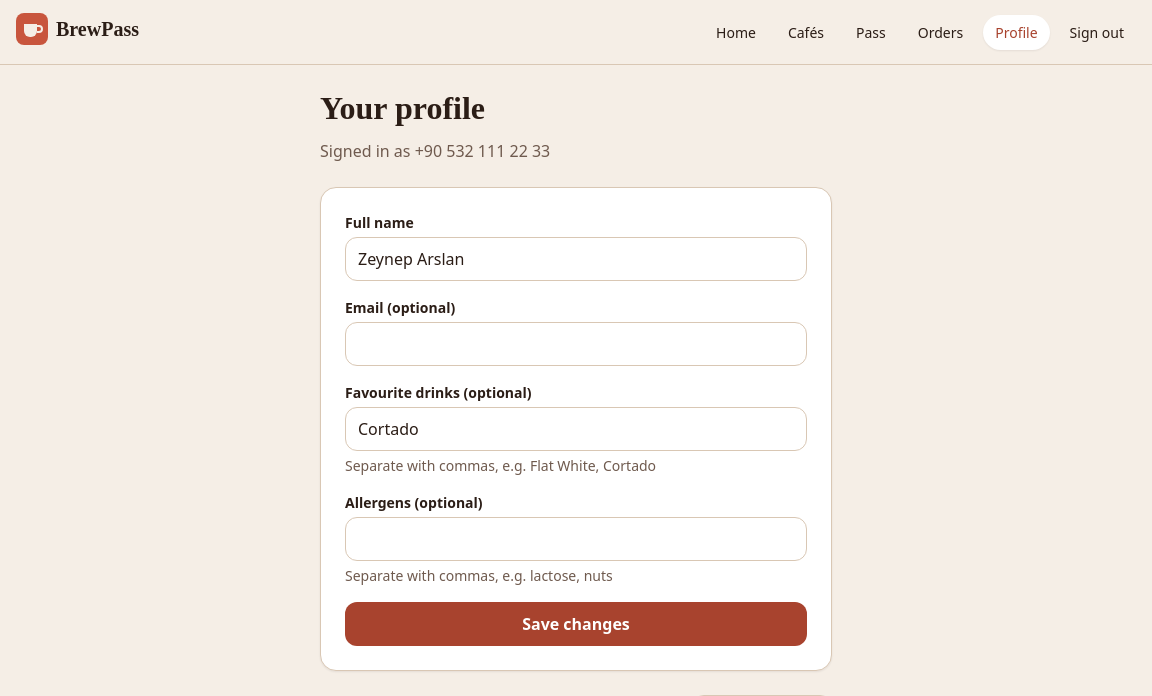
profile page › loads, edits and saves the profile
In the field labelled "Favourite drinks (optional)": (576, 429) [345,407,807,451], type ", Flat White"
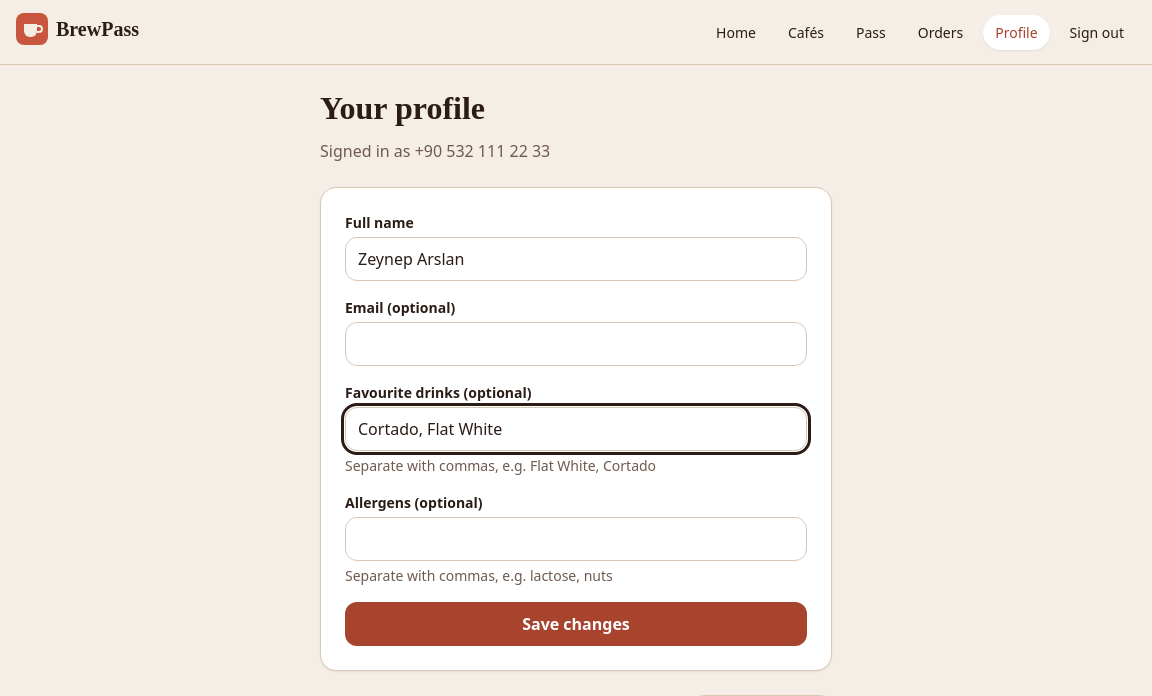
In the field labelled "Allergens (optional)": (576, 539) [345,517,807,561], type "lactose"
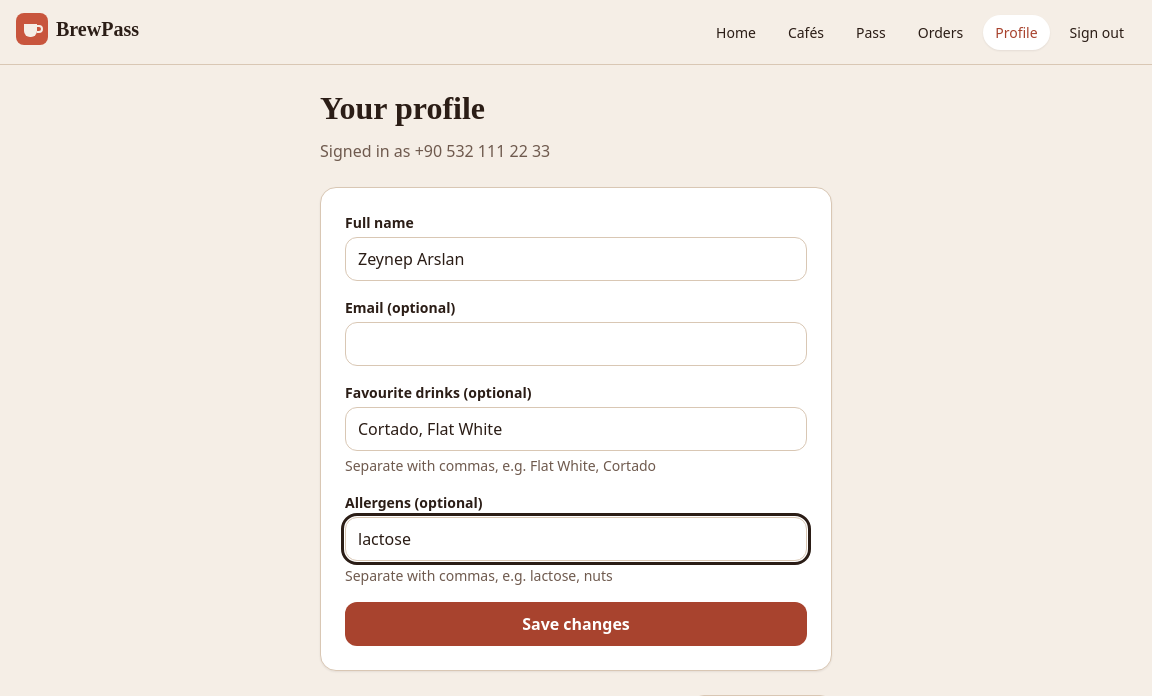
Click the button "Save changes": (576, 624) [345,602,807,646]
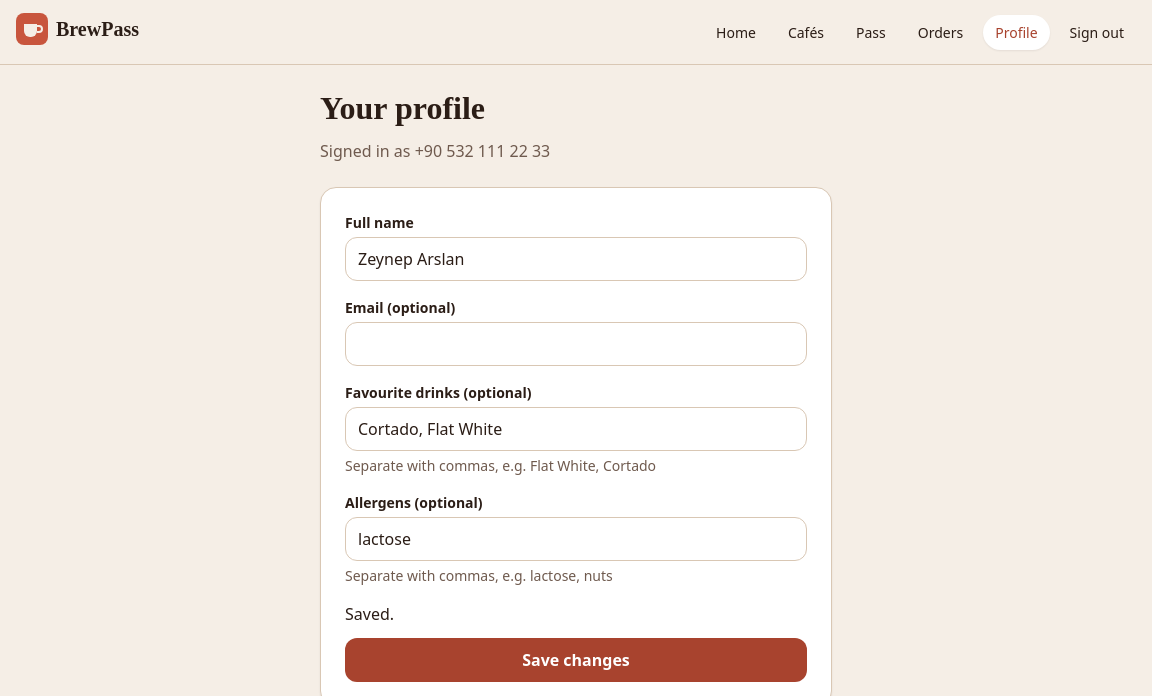
Result: the message reads "Saved." at [345,603,394,625]
